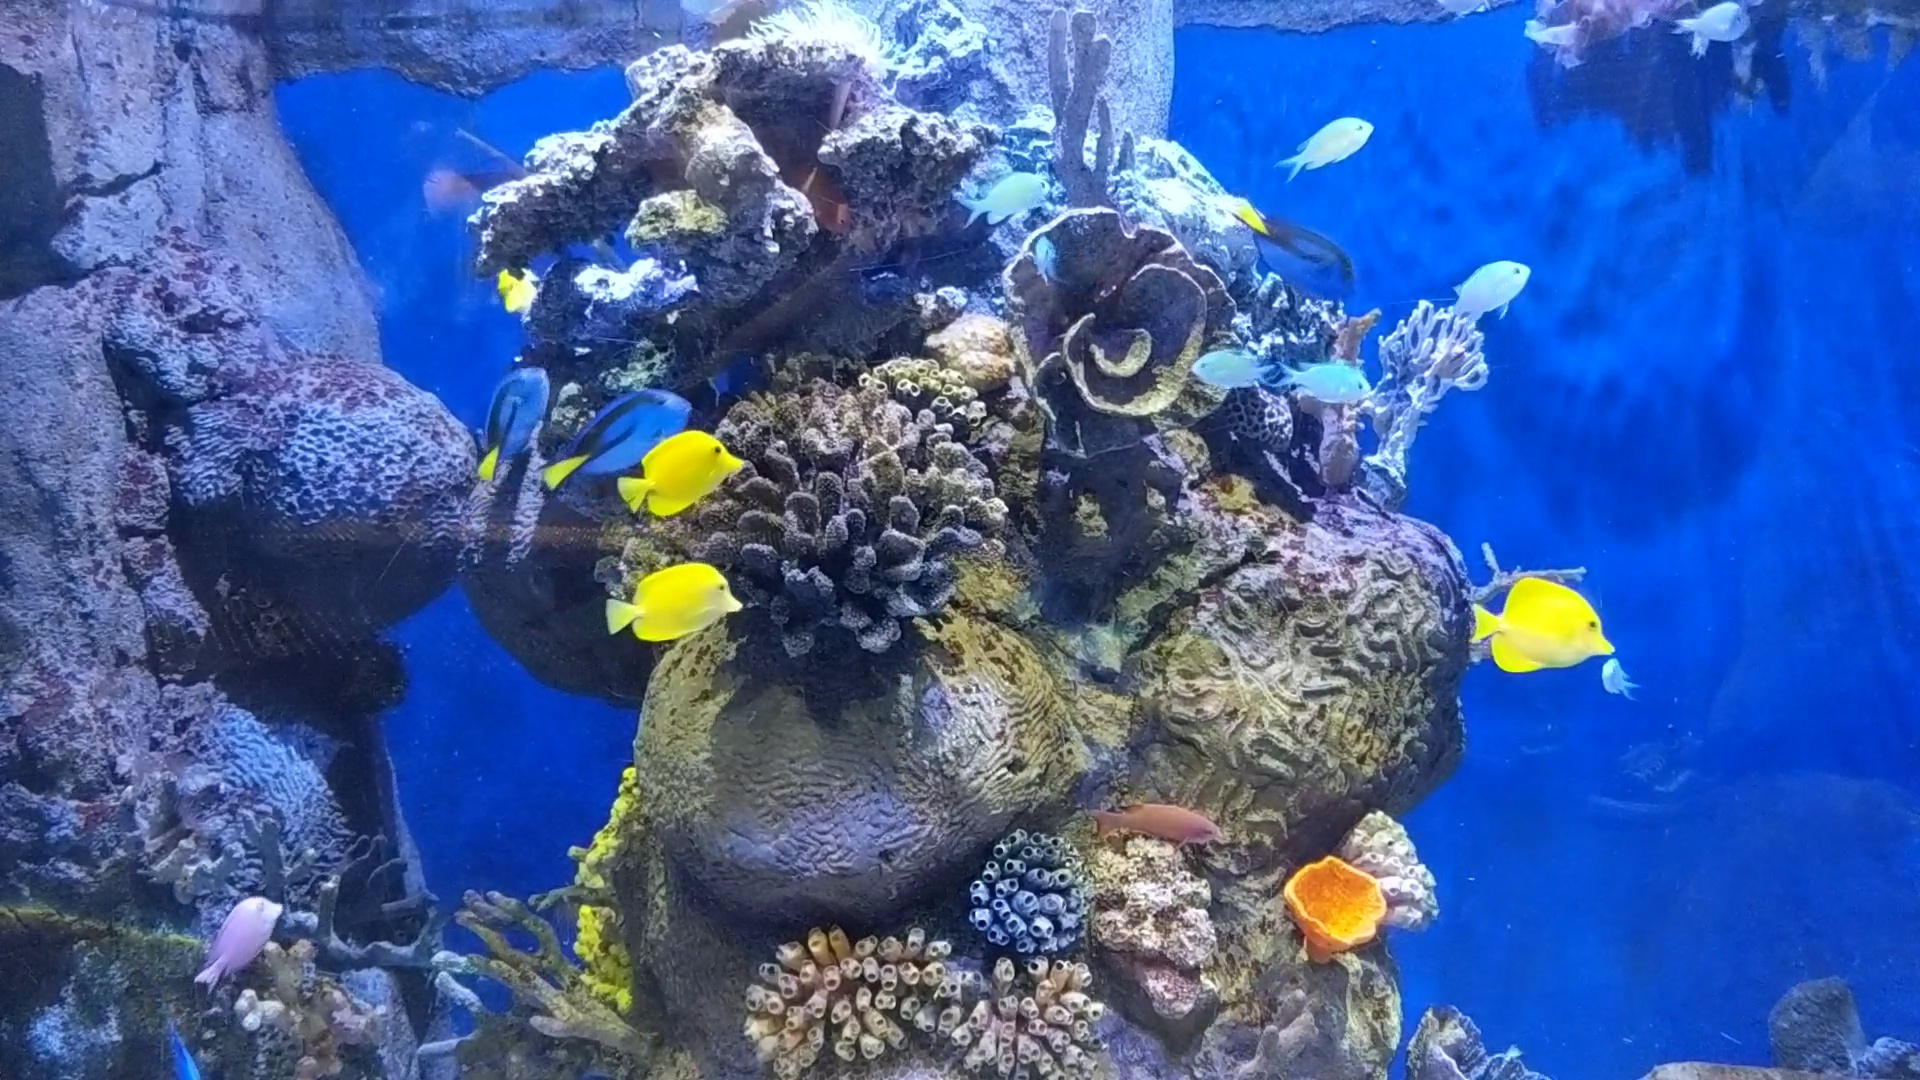blue tang surgeonfish: (538, 382, 695, 498), (1213, 191, 1364, 306), (462, 361, 564, 498), (148, 1013, 214, 1080)
damselfish: (1274, 109, 1385, 179), (1439, 255, 1534, 335), (955, 173, 1058, 229), (1275, 356, 1377, 407), (1675, 0, 1756, 61), (1182, 348, 1276, 392), (1596, 640, 1648, 713), (1027, 225, 1065, 290), (674, 0, 738, 18)
saddle butterfly fish: (1460, 571, 1619, 678), (617, 430, 756, 521), (603, 560, 746, 646), (492, 261, 556, 339)
